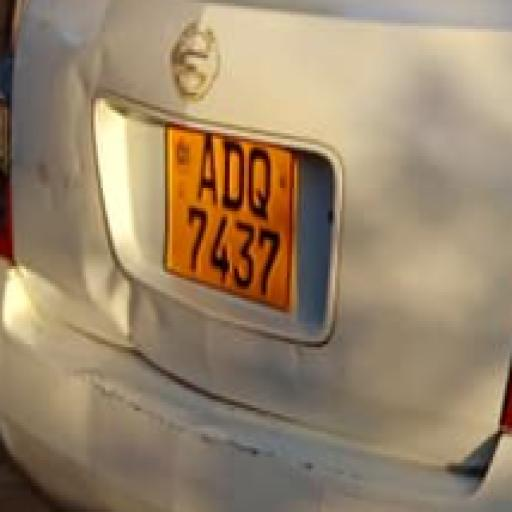number-plates: (158, 122, 286, 300)
